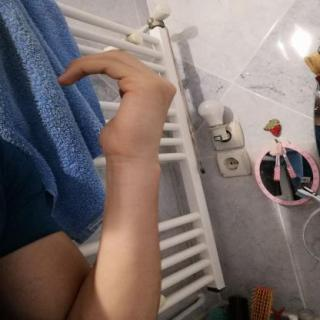HAA: (49, 43, 196, 170)
